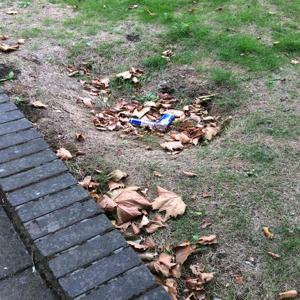metal: (125, 111, 155, 131), (154, 111, 176, 135)
